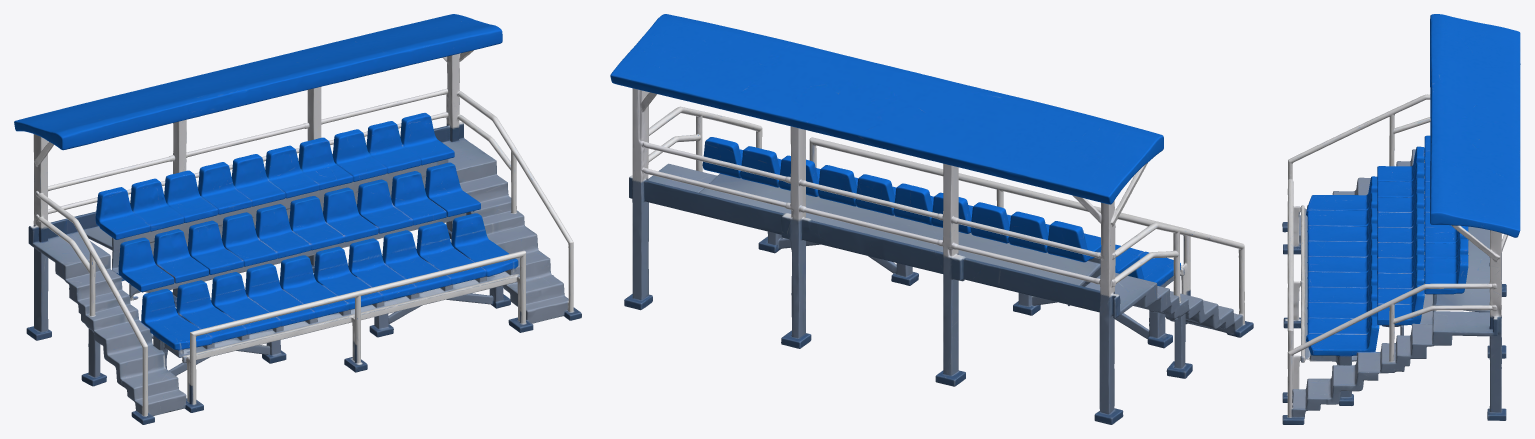
The model's file is Meshy_AI_Blue_Canopy_Bleachers_0917000231_texture.glb.
3 views of the same model, side by side, from view 1: azimuth 30°, elevation 25°; view 2: azimuth 150°, elevation 25°; view 3: azimuth 270°, elevation 25° (orthographic). The views are drawn at different scales.
Bounding box in the file's own units: 1.9 × 0.9569 × 0.9605.
1 material, 1 textured.
